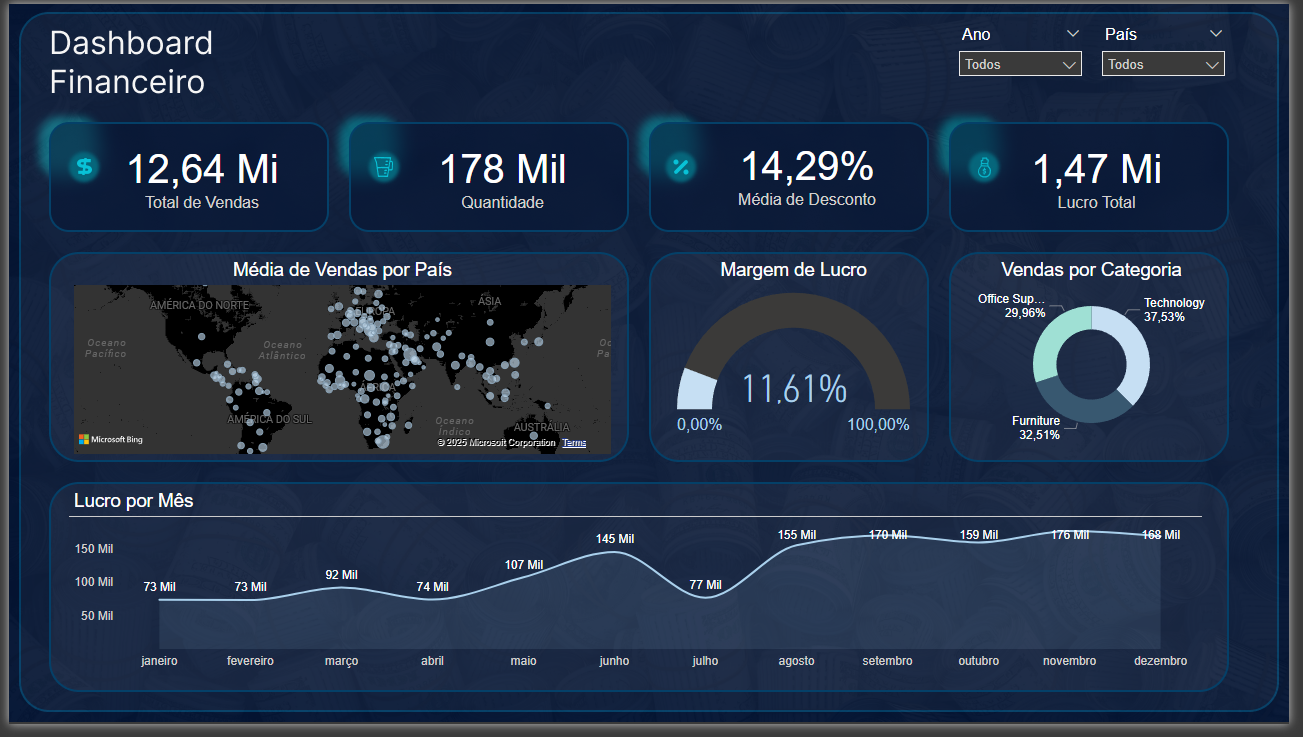

The page's visual inventory and layout, read from the dashboard file:
{"tool":"powerbi","page":{"name":"Financeiro","canvas":[1280,720],"ordinal":0},"visuals":[{"type":"lineChart","title":"Lucro por Mês","fields":{"Category":["Orders.Order Date.Variation.Hierarquia de datas.Mês"],"Y":["Sum(Orders.Profit)"]},"box":[59.5,486.1,1133.9,185.7],"z":0},{"type":"gauge","title":"Margem de Lucro","fields":{"Y":["Orders.Margem de Lucro"],"MaxValue":["Sum(Orders.Sales)"]},"box":[663.3,255.1,242.4,189.9],"z":1000},{"type":"card","title":"olo","fields":{"Values":["Sum(Orders.Sales)"]},"box":[59.5,124.7,266.5,92.1],"z":2000},{"type":"card","title":"olo","fields":{"Values":["Sum(Orders.Profit)"]},"box":[972.3,119.1,231,103.5],"z":3000},{"type":"card","fields":{"Values":["Sum(Orders.Quantity)"]},"box":[379.8,124.7,226.8,92.1],"z":4000},{"type":"card","fields":{"Values":["Avg(Orders.Discount)"]},"box":[690.2,119.1,215.4,97.8],"z":5000},{"type":"donutChart","title":"Vendas por Categoria","fields":{"Category":["Orders.Category"],"Y":["Sum(Orders.Sales)"]},"box":[962.4,255.1,240.9,189.9],"z":6000},{"type":"map","title":"Média de Vendas por País","fields":{"Size":["Avg(Orders.Sales)"],"Category":["Orders.Country"]},"box":[59.5,255.1,547.1,199.8],"z":7000},{"type":"slicer","fields":{"Values":["Orders.Order Date.Variation.Hierarquia de datas.Ano"]},"box":[939.7,17,143.1,65.2],"z":8000},{"type":"slicer","fields":{"Values":["Orders.Country"]},"box":[1082.8,17,143.1,65.2],"z":9000}]}

Visuals, with their boxes in screenshot pixels (x1, y1, x2, y2), scaled from the page's 1280x720 canvas onto the 1303x737 screenshot:
"Lucro por Mês" lineChart: (x1=61, y1=498, x2=1215, y2=688)
"Margem de Lucro" gauge: (x1=675, y1=261, x2=922, y2=456)
"olo" card: (x1=61, y1=128, x2=332, y2=222)
"olo" card: (x1=990, y1=122, x2=1225, y2=228)
card - Sum(Orders.Quantity): (x1=387, y1=128, x2=617, y2=222)
card - Avg(Orders.Discount): (x1=703, y1=122, x2=922, y2=222)
"Vendas por Categoria" donutChart: (x1=980, y1=261, x2=1225, y2=456)
"Média de Vendas por País" map: (x1=61, y1=261, x2=617, y2=466)
slicer - Orders.Order Date.Variation.Hierarquia de datas.Ano: (x1=957, y1=17, x2=1102, y2=84)
slicer - Orders.Country: (x1=1102, y1=17, x2=1248, y2=84)
